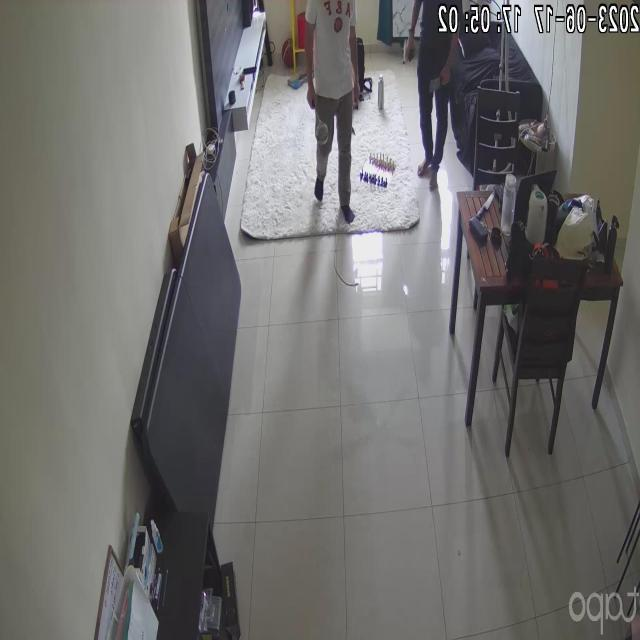Knife: (422, 66, 450, 102)
